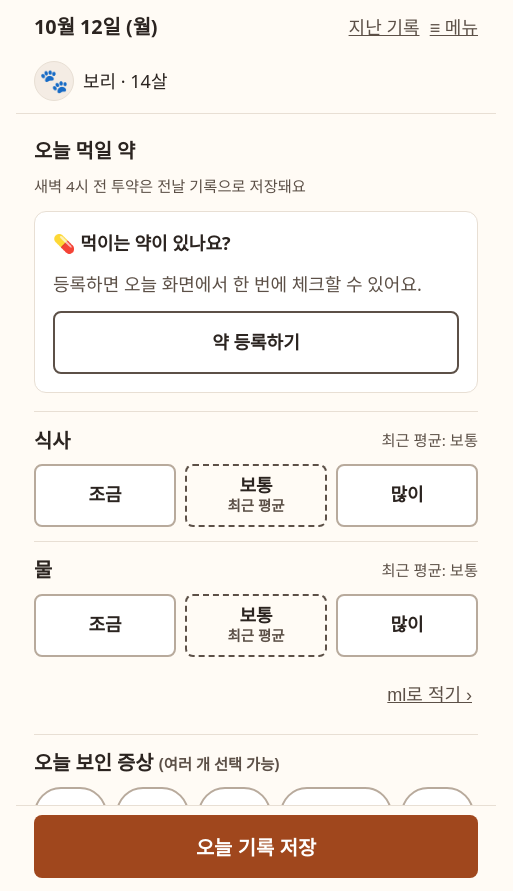
루틴 기록 섹션: 접힘·펼침 › 기본 접힘이고, 열지 않고 저장하면 요청은 기존 8필드 그대로이고 루틴 두 키는 생략된다
Click the button "오늘 기록 저장" at point(256, 846), box [34, 814, 478, 878]
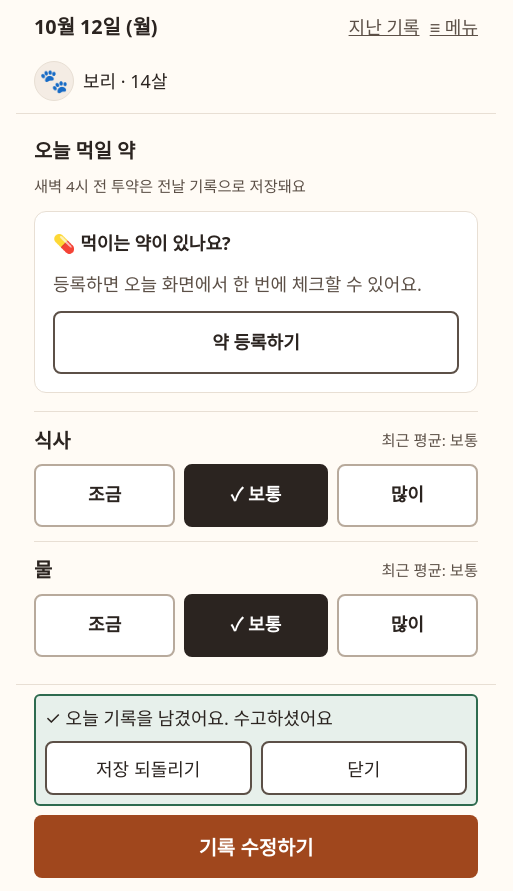
Now the text "✓ 오늘 기록을 남겼어요. 수고하셨어요" is shown, box [45, 706, 333, 730]
